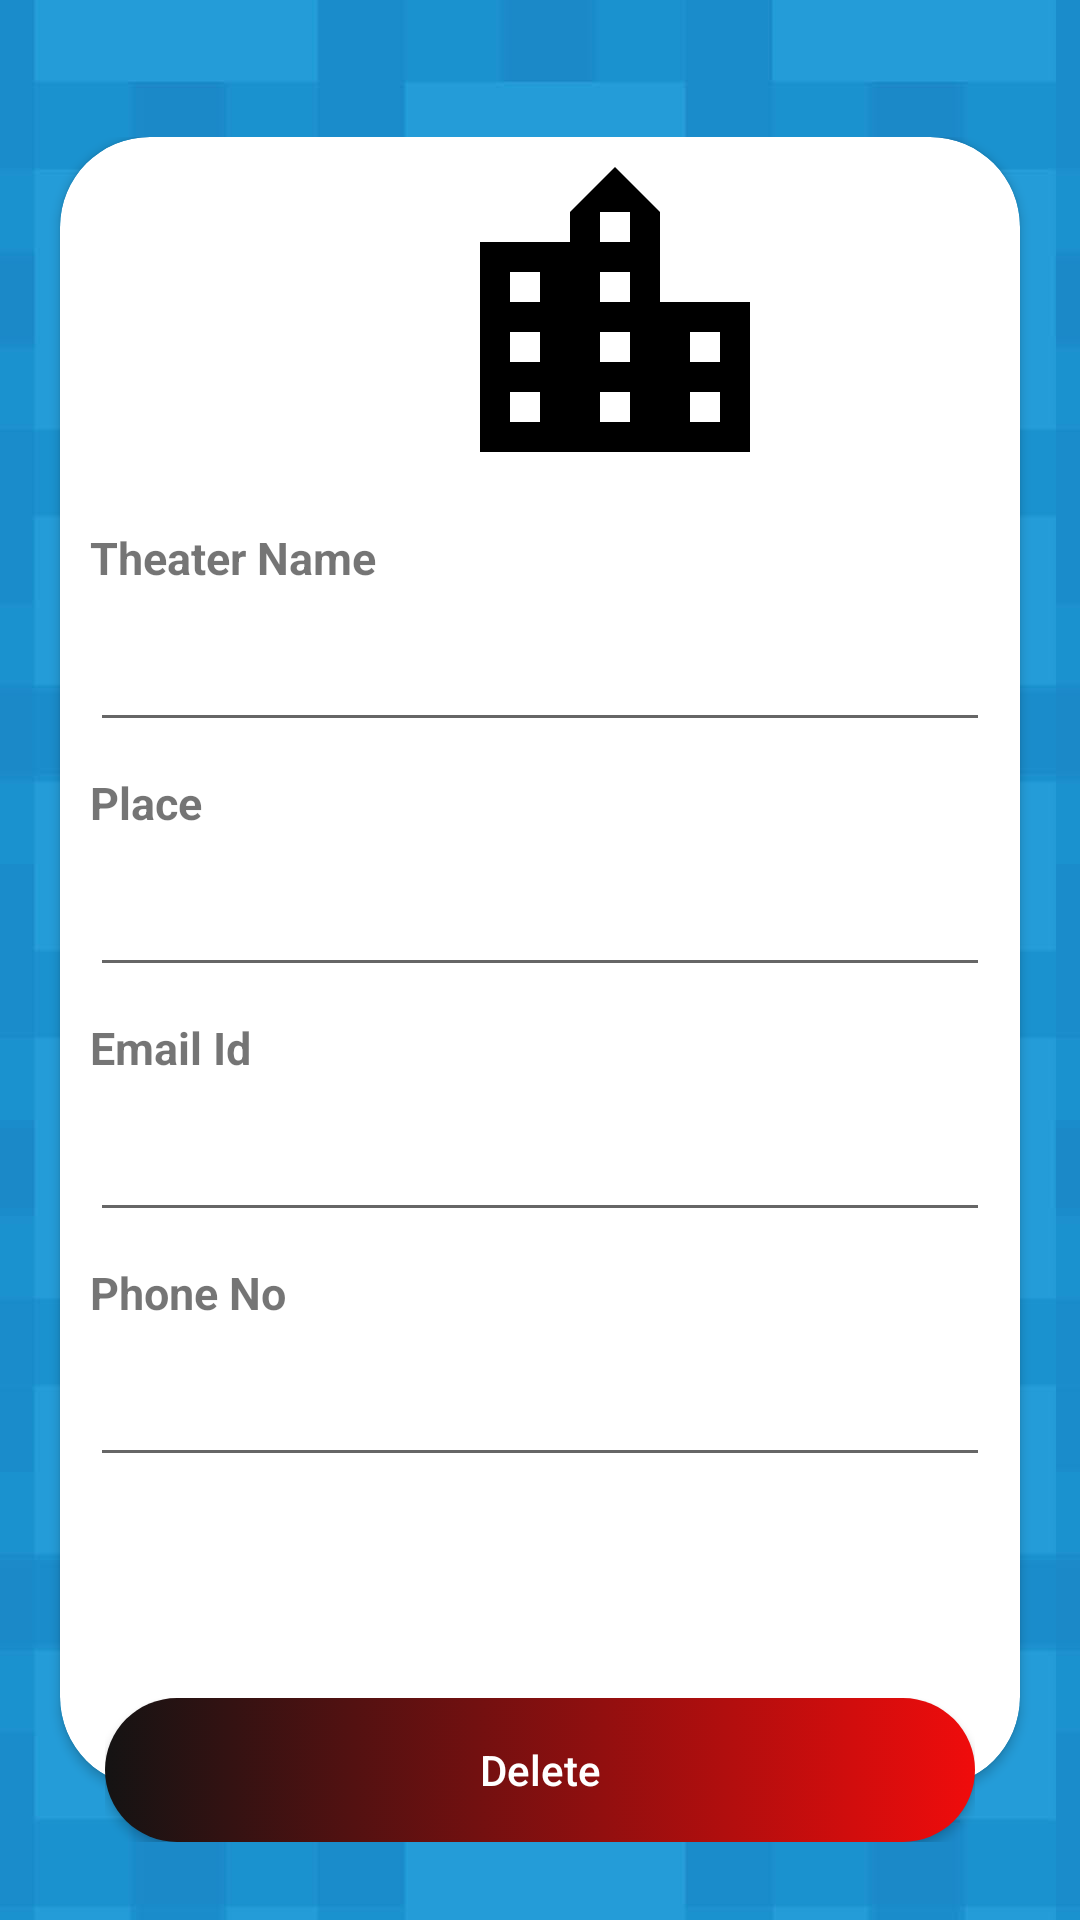

Locate icon controls on the screen. Image size 1080px x 1920px, boxes as Rect(x1, y1, x2, y2).
location city: Rect(480, 167, 750, 452)
